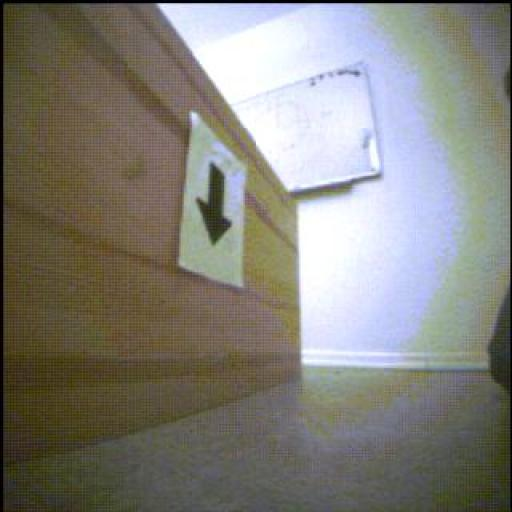arrow: (198, 164, 233, 246), (310, 70, 363, 87), (339, 70, 363, 78)
